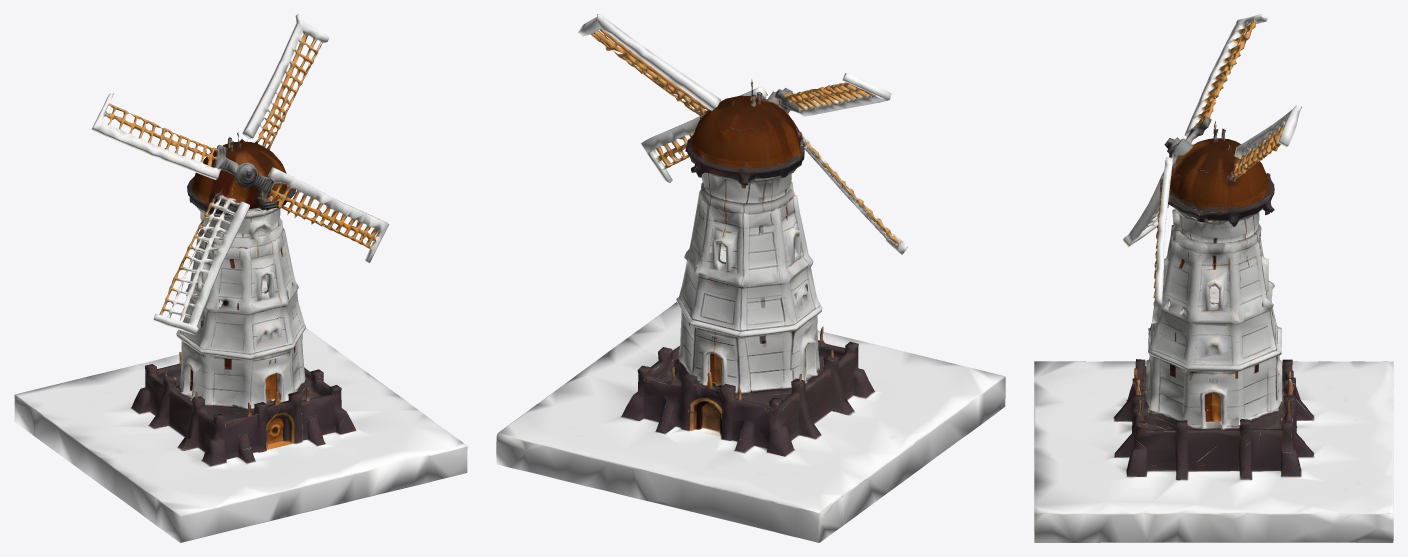
The model's file is tower.glb.
The picture shows the model from 3 angles, left to right: view 1: azimuth 30°, elevation 25°; view 2: azimuth 150°, elevation 25°; view 3: azimuth 270°, elevation 25°; orthographic projection. The views are drawn at different scales.
Parts seen in each view (by area): view 1: Mesh_0; view 2: Mesh_0; view 3: Mesh_0.
Boxes of the visible parts, x1,y1,x2,y2 form: Mesh_0: (14, 14, 467, 542); Mesh_0: (496, 14, 1005, 542); Mesh_0: (1034, 14, 1393, 542).
Bounding box in the file's own units: 1.5 × 1.91 × 1.5.
Materials: 1 (1 with a texture image).
